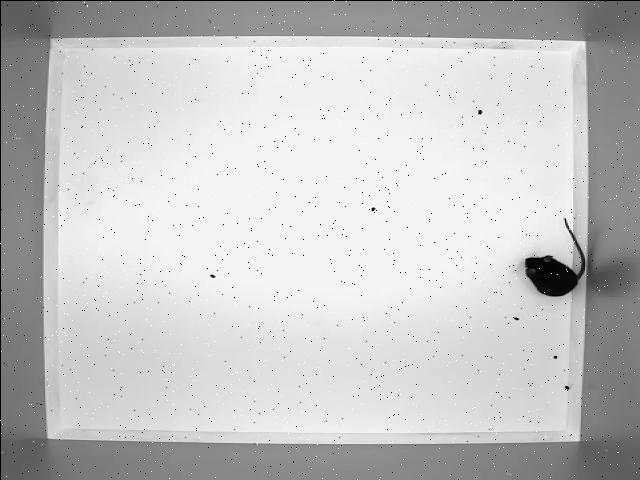Tikus: (496, 217, 584, 297)
